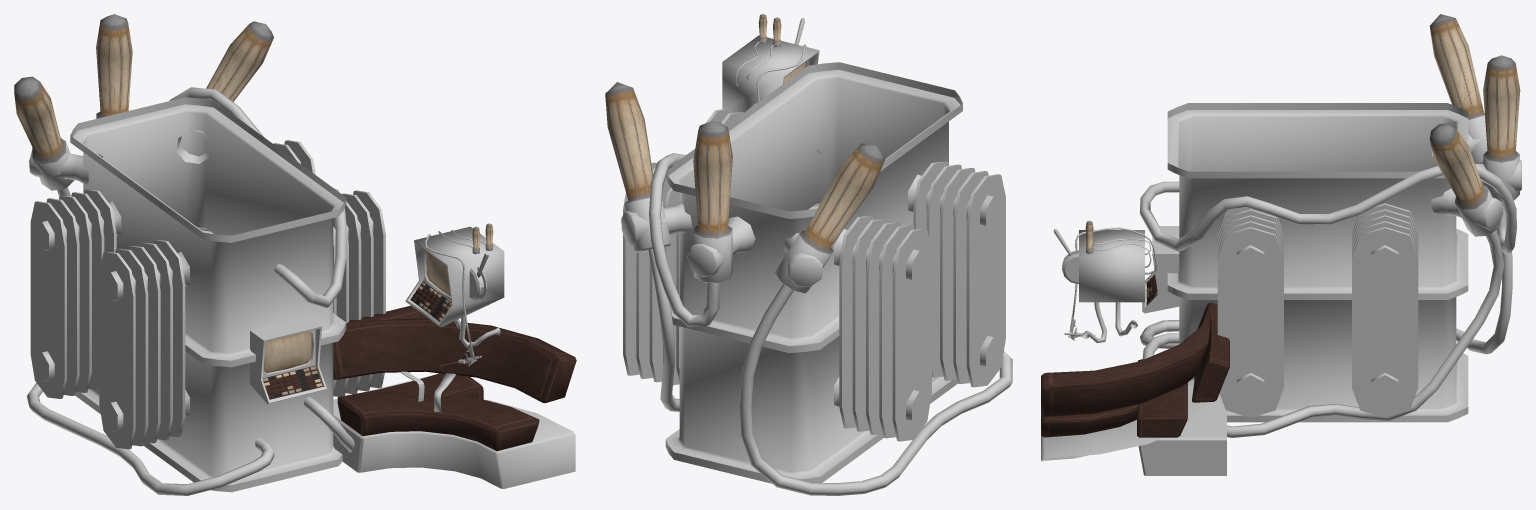
The model's file is stuff.FBX.
3 renders of one model, left to right at view 1: azimuth 30°, elevation 25°; view 2: azimuth 150°, elevation 25°; view 3: azimuth 270°, elevation 25°, orthographic. The views are drawn at different scales.
Visible parts, largest first — view 1: Core, Seat002, HealingMachine, Seat, PowerMachine; view 2: Core, HealingMachine; view 3: Core, Seat002, Seat, HealingMachine, PowerMachine.
Boxes of the visible parts, <box> form: Core: <box>14,14,385,495</box>; Seat002: <box>333,318,576,488</box>; HealingMachine: <box>405,223,504,365</box>; Seat: <box>333,305,483,472</box>; PowerMachine: <box>469,252,488,300</box>; Core: <box>605,62,1012,495</box>; HealingMachine: <box>722,14,819,112</box>; Core: <box>1139,14,1521,437</box>; Seat002: <box>1041,303,1220,461</box>; Seat: <box>1137,302,1229,475</box>; HealingMachine: <box>1064,221,1157,343</box>; PowerMachine: <box>1053,229,1078,284</box>.
Size of the model in its own units: 116 by 104 by 137.
